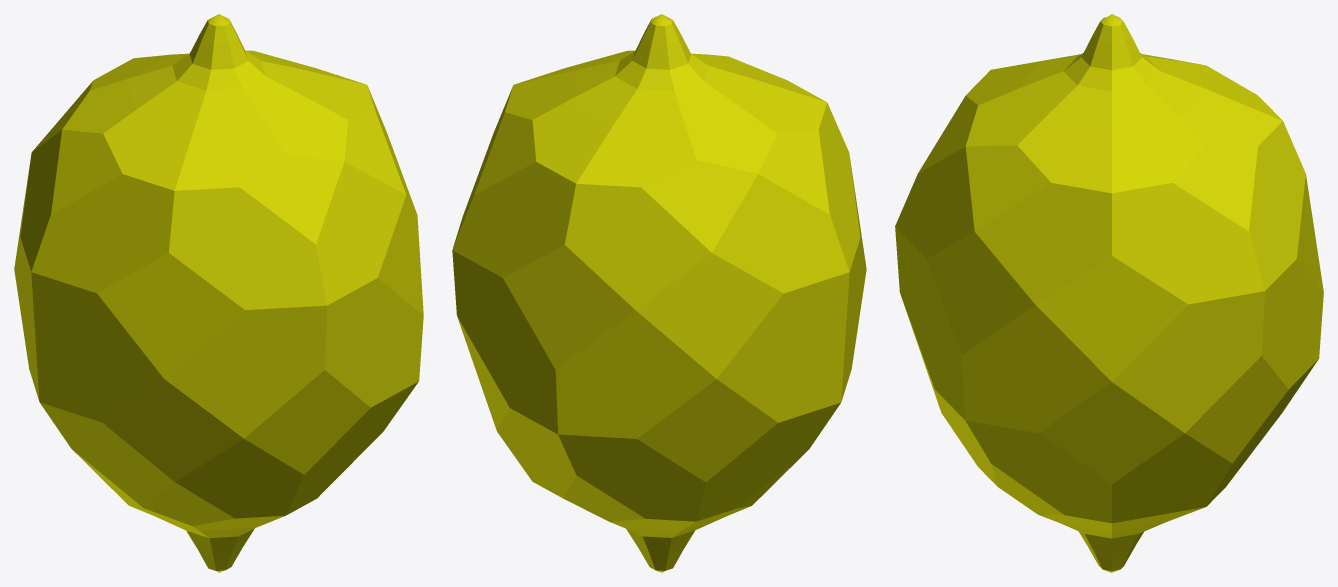
The model's file is lemon.fbx.
3 views of the same model, side by side, from view 1: azimuth 30°, elevation 25°; view 2: azimuth 150°, elevation 25°; view 3: azimuth 270°, elevation 25° (orthographic).
Parts seen in each view (by area): view 1: lemon_geo; view 2: lemon_geo; view 3: lemon_geo.
Boxes of the visible parts, x1,y1,x2,y2 form: lemon_geo: [14, 14, 423, 572]; lemon_geo: [452, 14, 866, 572]; lemon_geo: [895, 14, 1323, 572].
Size of the model in its own units: 4.3 by 6.18 by 4.3.
